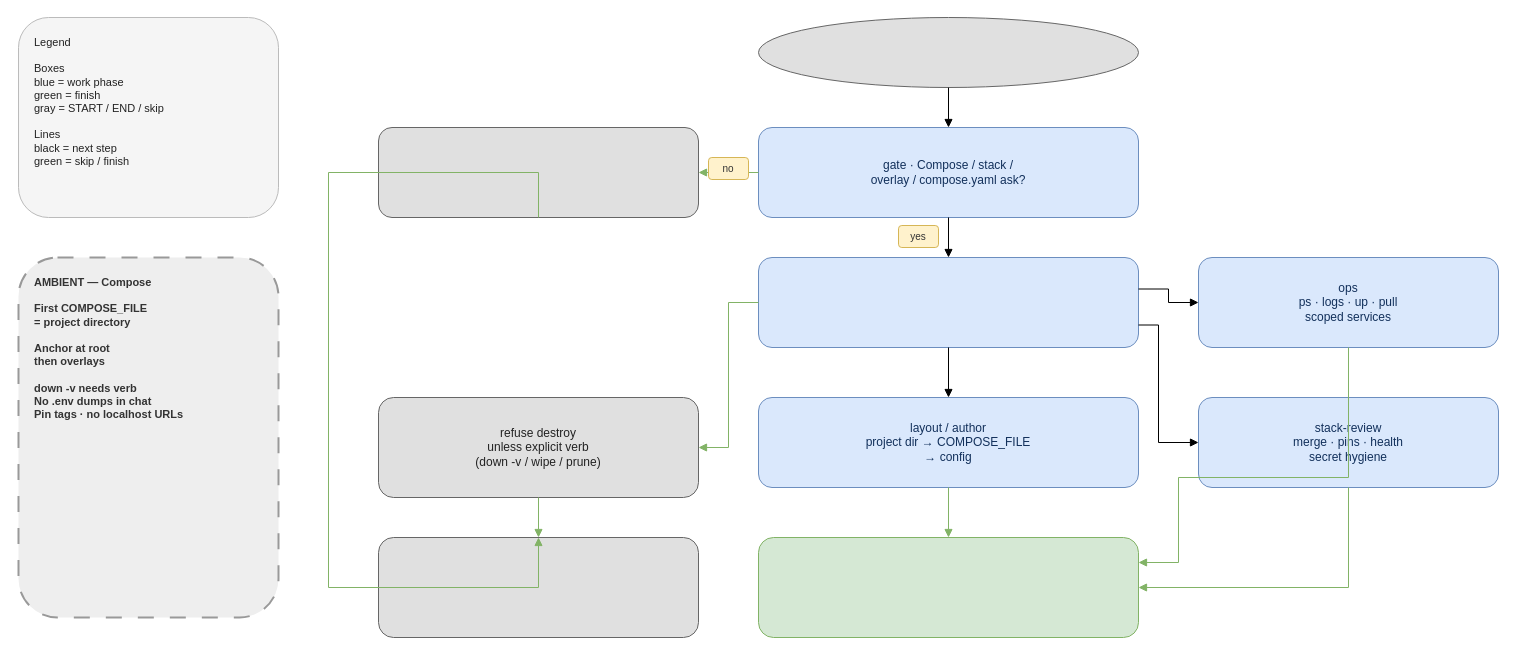
Some shapes in this 1516 by 655 pixel diagram are drawn without their labels. The shapes that lost their labels are listed below. From the top down, each one's centre as x and y in pixels, then its label:
the point at 948,52: START — user ask
the point at 538,172: skip — no Compose ask ordinary coding; do not touch stacks for sport
the point at 948,302: route · layout vs ops vs stack-review vs destroy
the point at 538,587: END — stay out
the point at 948,587: END — evidence project + services (no secrets)
